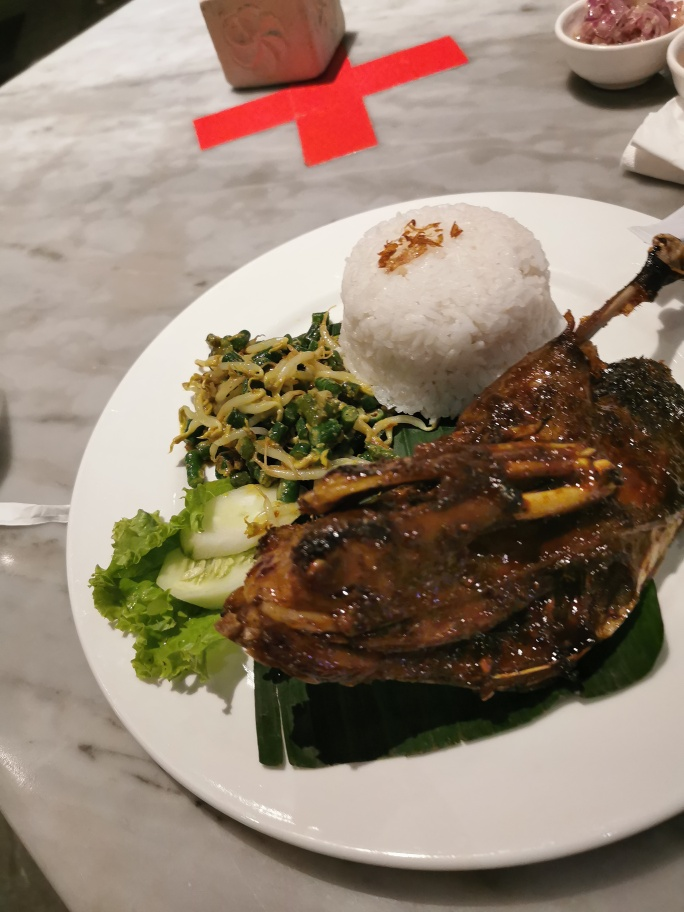bebek bakar: (223, 236, 684, 690)
nasi putih: (338, 198, 560, 410)
